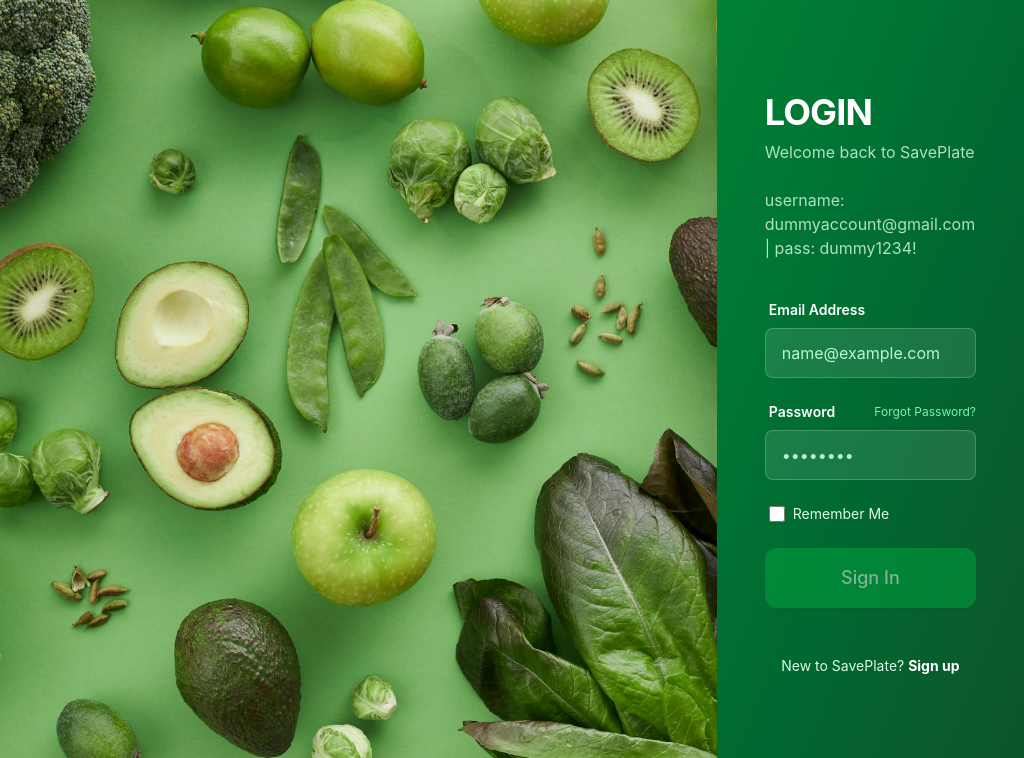
Sidebar Navigation E2E › should navigate to Meal Planner page
Type "dummyaccount@gmail.com" into the field with id "email". click: (871, 353)
box: x1=765 y1=328 x2=976 y2=378
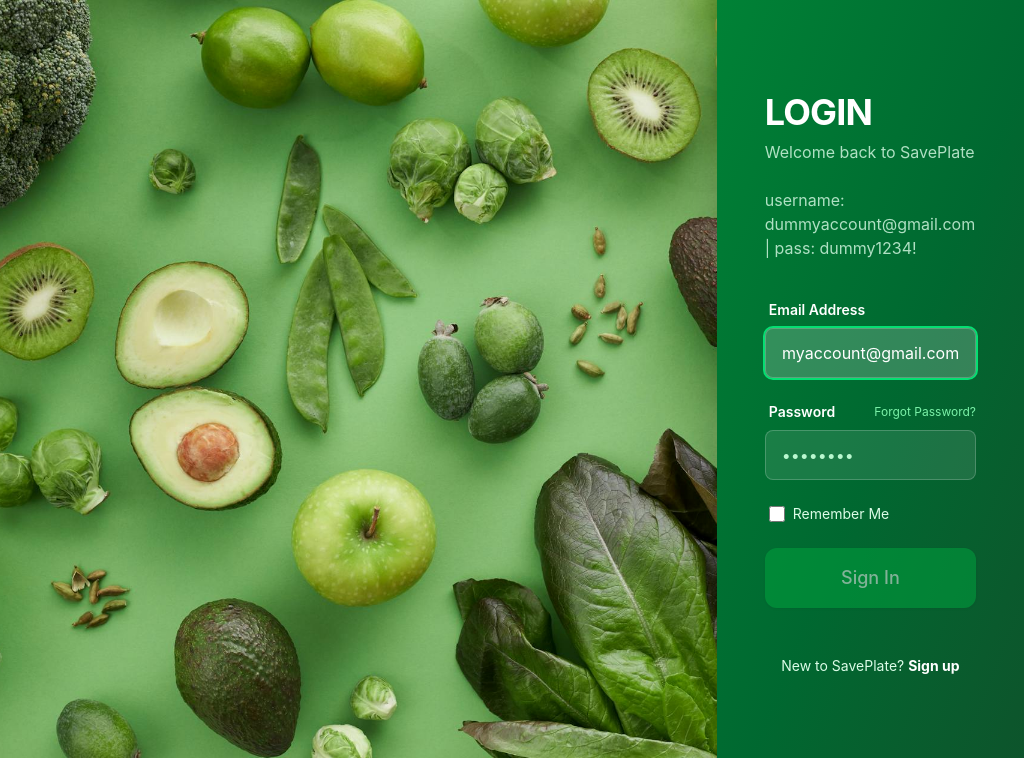
Type "dummy1234!" into the password field labelled "Password". click: (871, 455)
box: x1=765 y1=430 x2=976 y2=480
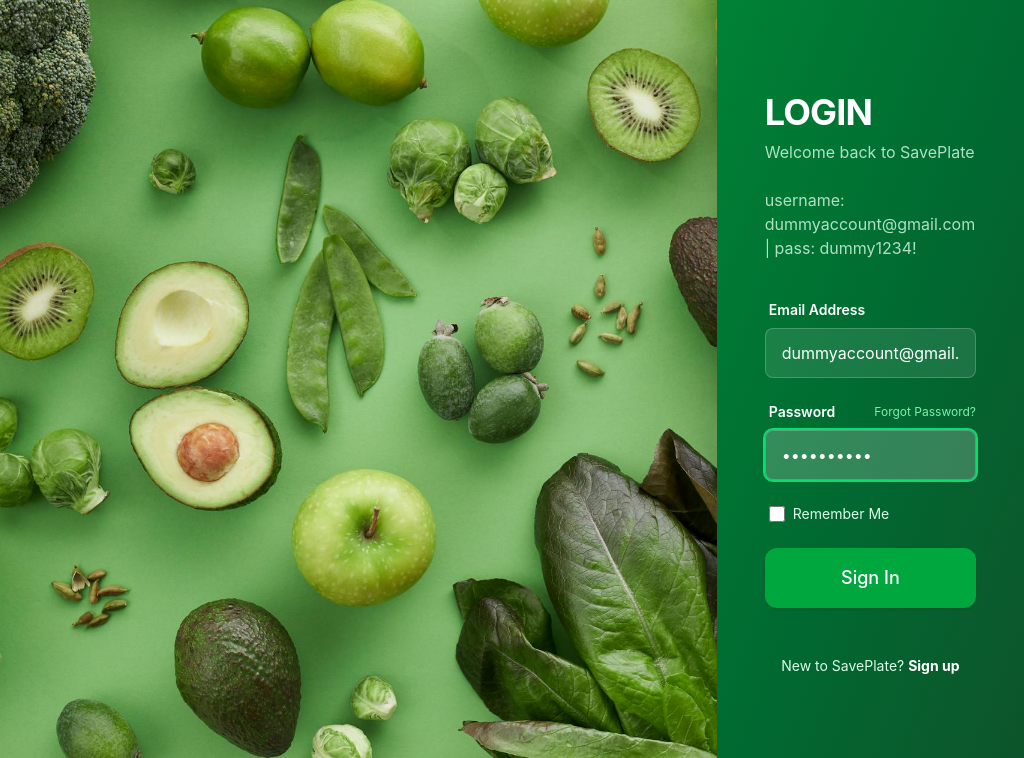
Click the submit button. click: (871, 578)
box: x1=765 y1=548 x2=976 y2=608
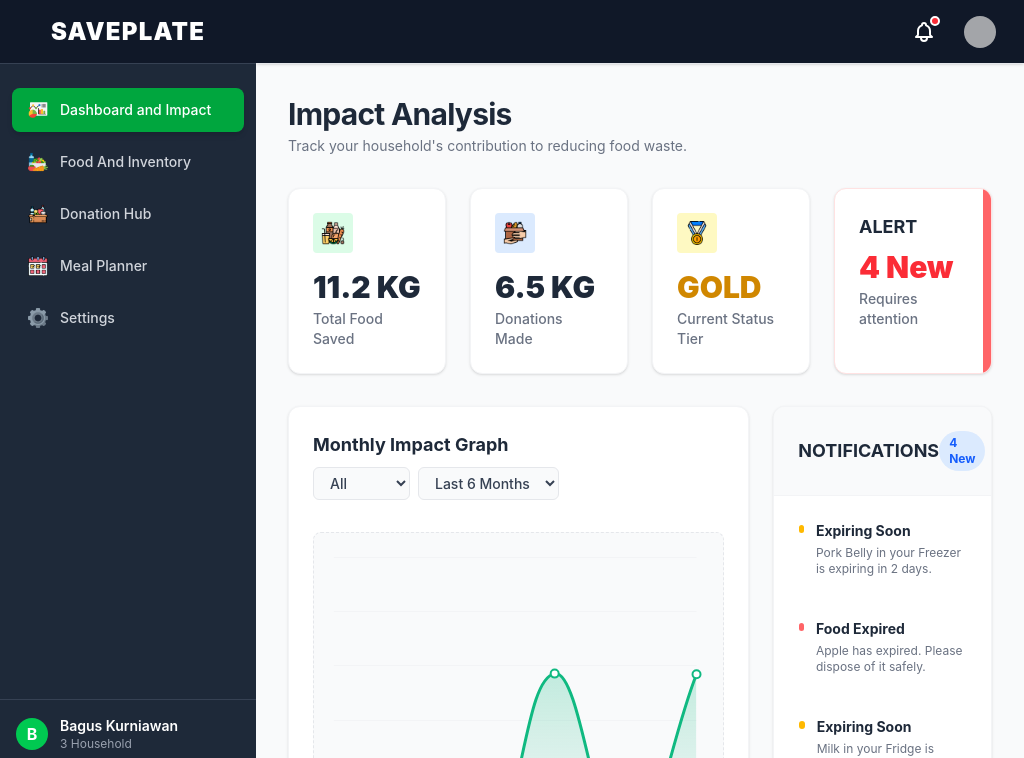
Click the link "Meal Planner". click: (88, 266)
box: x1=28 y1=256 x2=147 y2=276
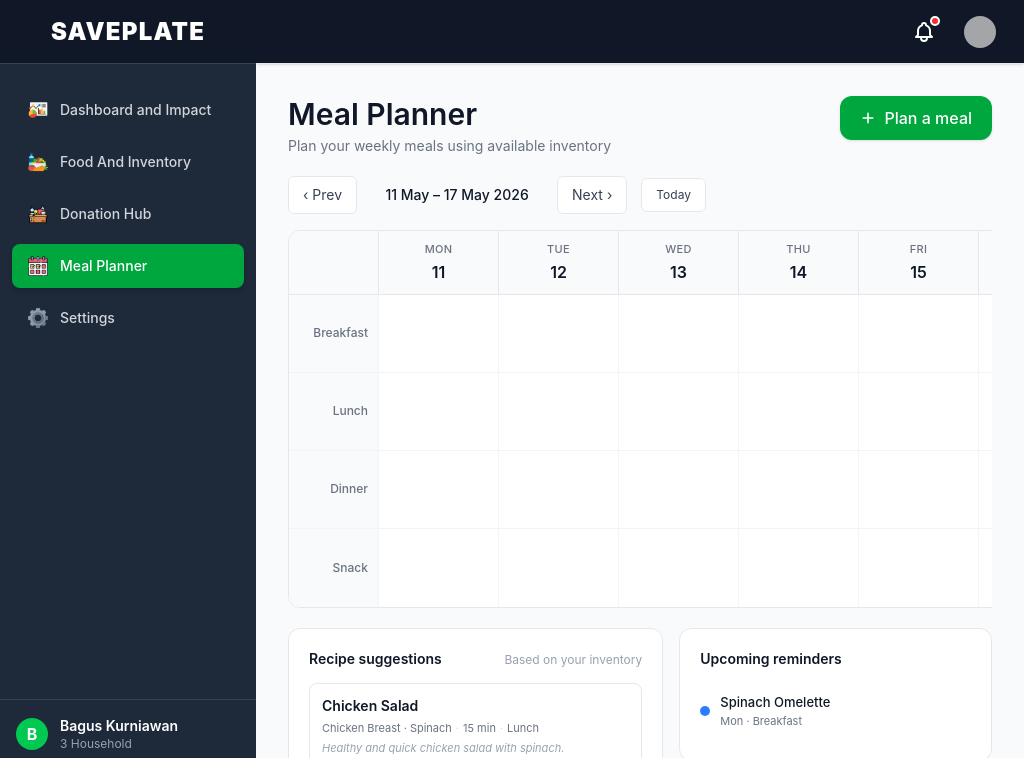
Now the heading "Meal Planner" is shown, box x1=288 y1=96 x2=477 y2=132
